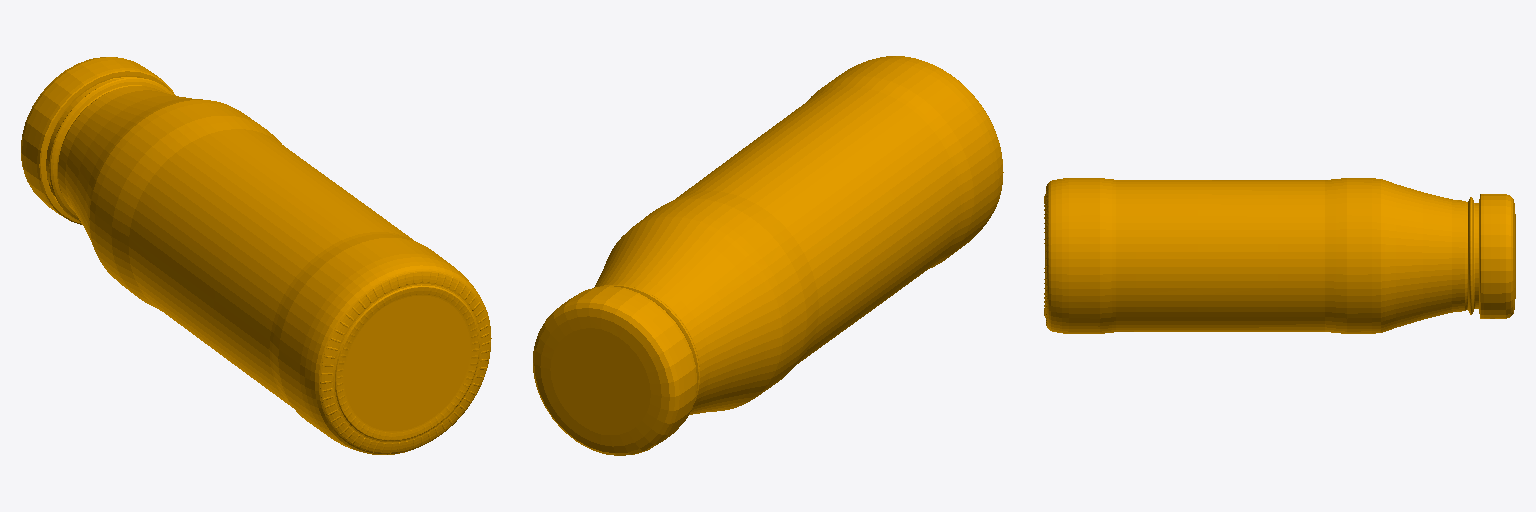
URDF robot description (yogurt):
<?xml version="1.0"?>
<robot name="yogurt">
  <link name="yogurt">
    <visual>
      <origin xyz="0.0 0.0 0.0"/>
      <geometry>
        <mesh filename="yogurt.obj" scale="5 5 5"/>
      </geometry>
    </visual>
    <collision>
      <origin xyz="0.0 0.0 0.0"/>
      <geometry>
        <mesh filename="yogurt.obj" scale="5 5 5"/>
      </geometry>
    </collision>
    <inertial>
      <mass value="0.3"/>
      <inertia ixx="0.0001" ixy="0.0" ixz="0.0" iyy="0.0001" iyz="0.0" izz="0.0001"/>
    </inertial>
  </link>
</robot>

--- Facts derived from the render (not from the file) ---
The picture shows the robot from 3 angles, left to right: view 1: azimuth 30°, elevation 25°; view 2: azimuth 150°, elevation 25°; view 3: azimuth 270°, elevation 25°; orthographic projection.
Robot: yogurt — 1 links, 0 joints (none); root link yogurt; default pose: all joints at 0.
Visible links, largest first — view 1: yogurt; view 2: yogurt; view 3: yogurt.
Boxes of the visible links, x1=… form: yogurt: x1=21, y1=57, x2=491, y2=454; yogurt: x1=533, y1=56, x2=1003, y2=455; yogurt: x1=1044, y1=178, x2=1515, y2=333.
Bounding box of the posed robot: 0.0548 × 0.165 × 0.0548 m (x, y, z).
1 mesh visuals loaded from 1 distinct referenced files (1 OBJ).